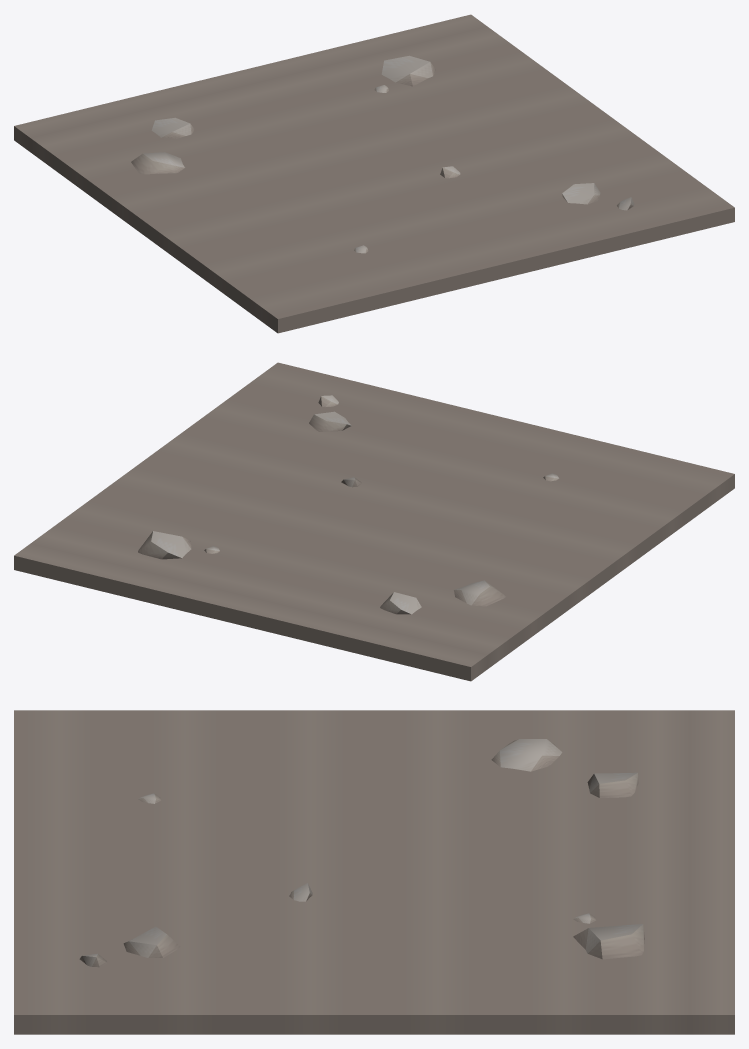
File: floor_dirt_large.glb
3 renders of one model, top to bottom at view 1: azimuth 30°, elevation 25°; view 2: azimuth 150°, elevation 25°; view 3: azimuth 270°, elevation 25°, orthographic. The views are drawn at different scales.
Parts seen in each view (by area): view 1: floor_dirt_large; view 2: floor_dirt_large; view 3: floor_dirt_large.
Boxes of the visible parts, <box> form: floor_dirt_large: <box>14,14,734,333</box>; floor_dirt_large: <box>14,362,734,681</box>; floor_dirt_large: <box>14,710,734,1034</box>.
Bounding box in the file's own units: 4 × 0.2086 × 4.
Materials: 1 (1 with a texture image).
